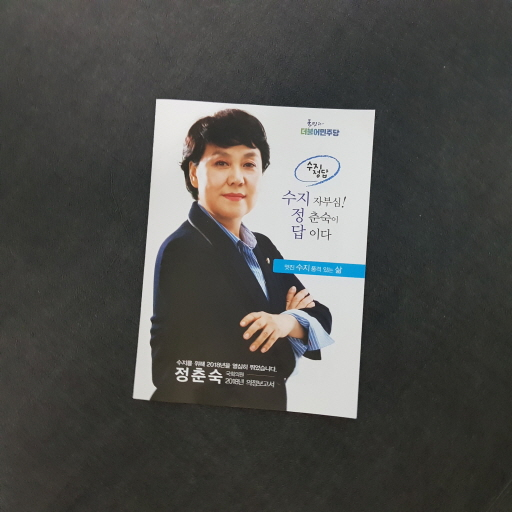Paper_2: (131, 89, 388, 431)
